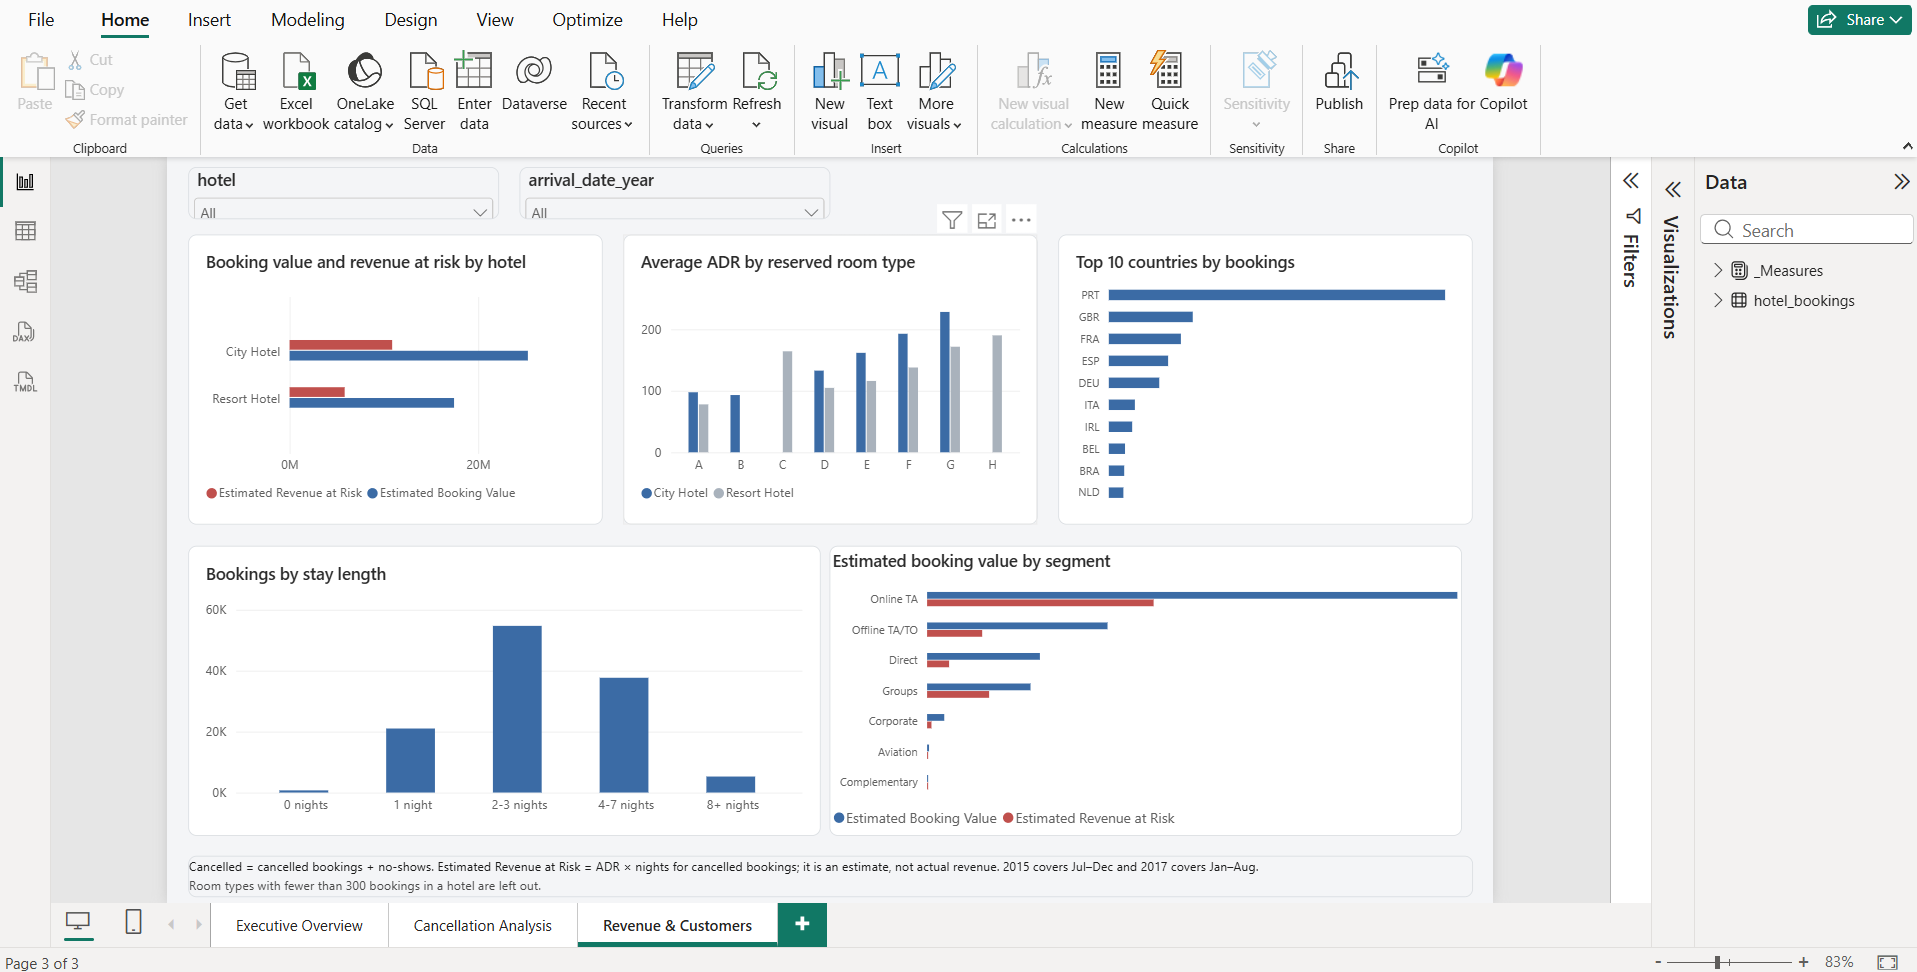

The dashboard page shown, as its layout file describes it:
{"tool":"powerbi","page":{"name":"Revenue & Customers","canvas":[1280,720],"ordinal":2},"visuals":[{"type":"slicer","fields":{"Values":["hotel_bookings.hotel"]},"box":[20,10,300,50],"z":0},{"type":"slicer","fields":{"Values":["hotel_bookings.arrival_date_year"]},"box":[340,10,300,50],"z":1},{"type":"clusteredBarChart","title":"Booking value and revenue at risk by hotel","fields":{"Category":["hotel_bookings.hotel"],"Y":["_Measures.Estimated Revenue at Risk","_Measures.Estimated Booking Value"]},"box":[20,75,400,280],"z":3},{"type":"clusteredColumnChart","title":"Average ADR by reserved room type","fields":{"Category":["hotel_bookings.reserved_room_type"],"Series":["hotel_bookings.hotel"],"Y":["_Measures.Average ADR"]},"box":[440,75,400,280],"z":4},{"type":"clusteredBarChart","title":"Top 10 countries by bookings","fields":{"Category":["hotel_bookings.country"],"Y":["_Measures.Total Bookings"]},"box":[860,75,400,280],"z":5},{"type":"clusteredColumnChart","title":"Bookings by stay length","fields":{"Category":["hotel_bookings.Stay Length Group"],"Y":["_Measures.Total Bookings"]},"box":[20,375,610,280],"z":7},{"type":"clusteredBarChart","title":"Estimated booking value by segment","fields":{"Category":["hotel_bookings.market_segment"],"Y":["_Measures.Estimated Booking Value","_Measures.Estimated Revenue at Risk"]},"box":[639.4,375.2,610,280],"z":8},{"type":"textbox","box":[20,675,1240,40],"z":10}]}

Visuals, with their boxes on the page's 1280x720 design canvas (x1, y1, x2, y2). These are canvas units, not pixel positions in the 1917x972 screenshot, which may show the page scaled, cropped or inside an application window:
slicer - hotel_bookings.hotel: x1=20, y1=10, x2=320, y2=60
slicer - hotel_bookings.arrival_date_year: x1=340, y1=10, x2=640, y2=60
"Booking value and revenue at risk by hotel" clusteredBarChart: x1=20, y1=75, x2=420, y2=355
"Average ADR by reserved room type" clusteredColumnChart: x1=440, y1=75, x2=840, y2=355
"Top 10 countries by bookings" clusteredBarChart: x1=860, y1=75, x2=1260, y2=355
"Bookings by stay length" clusteredColumnChart: x1=20, y1=375, x2=630, y2=655
"Estimated booking value by segment" clusteredBarChart: x1=639, y1=375, x2=1249, y2=655
textbox: x1=20, y1=675, x2=1260, y2=715
